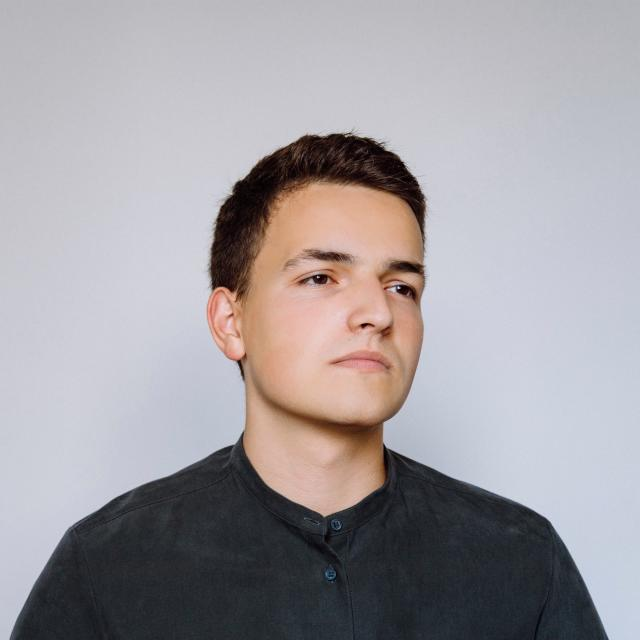adult: (15, 116, 602, 640)
